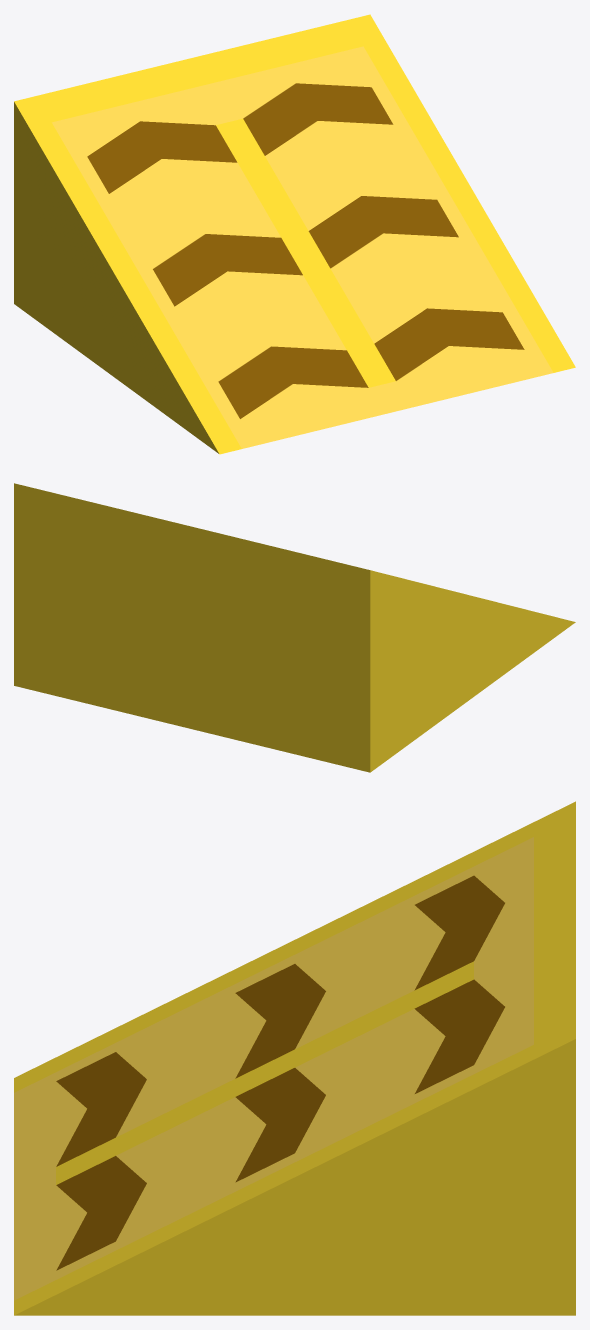
File: ziplamayolu.fbx
3 views of the same model, one above another, from view 1: azimuth 30°, elevation 25°; view 2: azimuth 150°, elevation 25°; view 3: azimuth 270°, elevation 25° (orthographic). The views are drawn at different scales.
Parts seen in each view (by area): view 1: Cube.003, Cube.001, Cube.002; view 2: Cube.001; view 3: Cube.001, Cube.003, Cube.002.
Boxes of the visible parts, x1,y1,x2,y2 form: Cube.003: [52, 46, 553, 448]; Cube.001: [14, 14, 575, 454]; Cube.002: [87, 83, 524, 418]; Cube.001: [14, 483, 575, 772]; Cube.001: [14, 801, 575, 1315]; Cube.003: [14, 837, 533, 1300]; Cube.002: [56, 875, 504, 1270].
Bounding box in the file's own units: 100 × 54.33 × 100.
